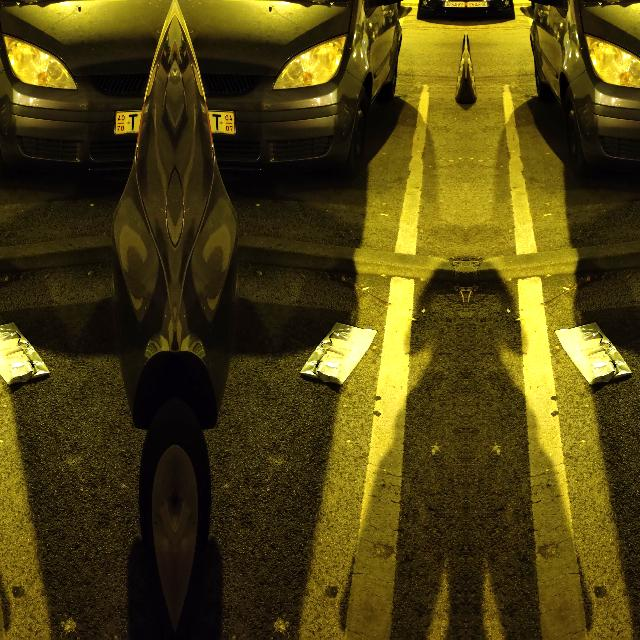Plastic: (548, 313, 640, 399), (292, 313, 382, 399), (0, 313, 56, 399)
